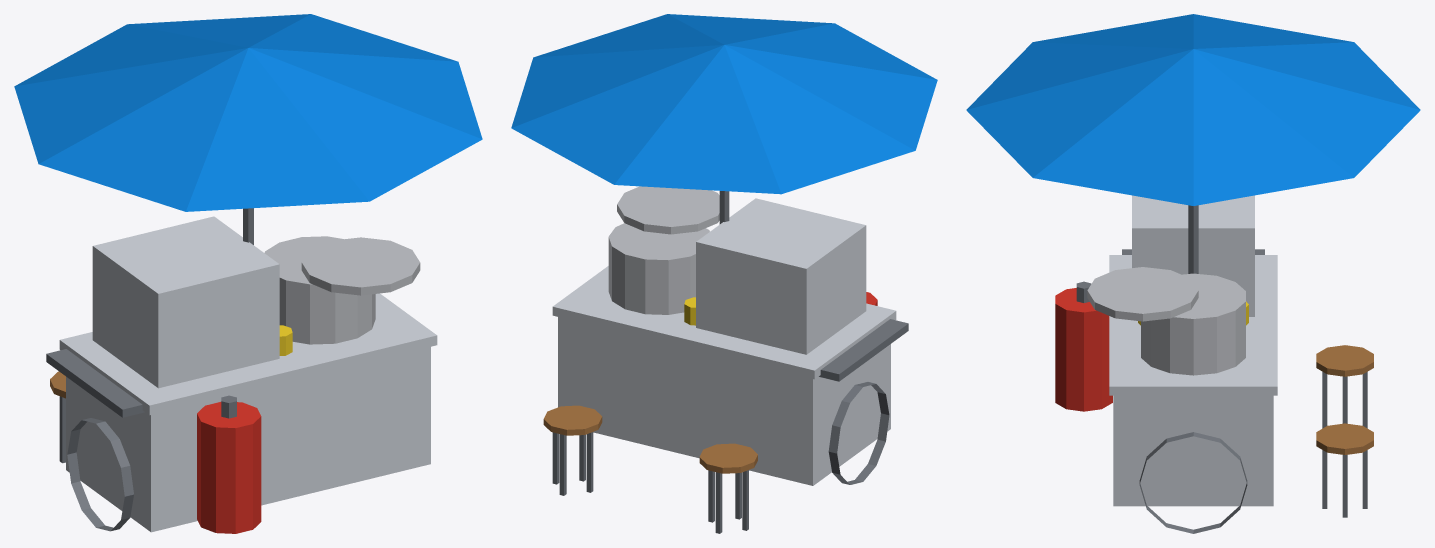
Rendered from env_street_pares_cart.obj.
3 views of the same model, side by side, from view 1: azimuth 30°, elevation 25°; view 2: azimuth 150°, elevation 25°; view 3: azimuth 270°, elevation 25° (orthographic). The views are drawn at different scales.
Visible parts, largest first — view 1: env_street_pares_cart; view 2: env_street_pares_cart; view 3: env_street_pares_cart.
Part boxes in pixels (x1,y1,x2,y2): env_street_pares_cart: (14, 14, 482, 533); env_street_pares_cart: (511, 14, 937, 533); env_street_pares_cart: (966, 14, 1420, 533).
Bounding box in the file's own units: 2.7 × 2.75 × 2.7.
